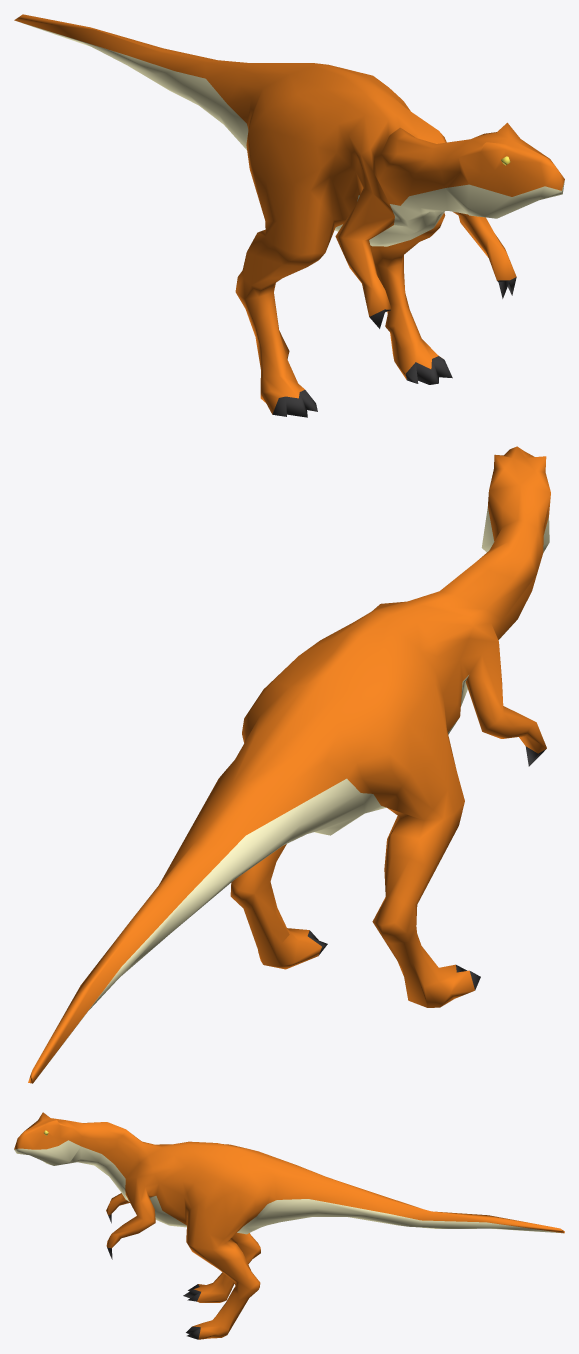
File: dinosaur_003.gltf
3 views of the same model, one above another, from view 1: azimuth 30°, elevation 25°; view 2: azimuth 150°, elevation 25°; view 3: azimuth 270°, elevation 25° (orthographic). The views are drawn at different scales.
Parts seen in each view (by area): view 1: dinosaur_003; view 2: dinosaur_003; view 3: dinosaur_003.
Boxes of the visible parts, x1,y1,x2,y2 form: dinosaur_003: [14, 14, 564, 417]; dinosaur_003: [28, 446, 550, 1083]; dinosaur_003: [14, 1112, 564, 1339].
Bounding box in the file's own units: 3.34 × 6.59 × 16.13.
1 material, 1 textured.
